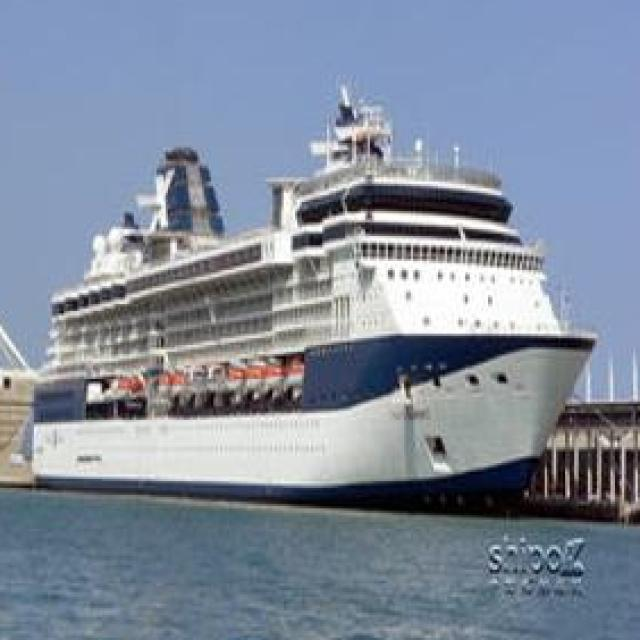passenger ship: (25, 76, 602, 503)
